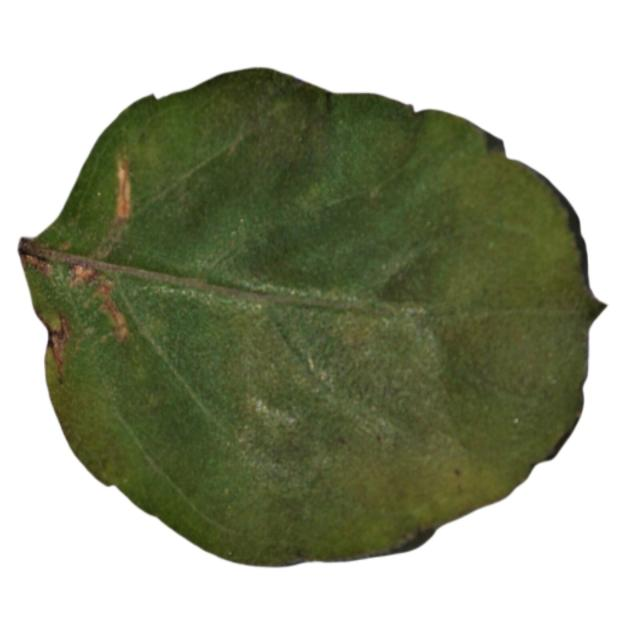tulsi: (19, 63, 608, 561)
